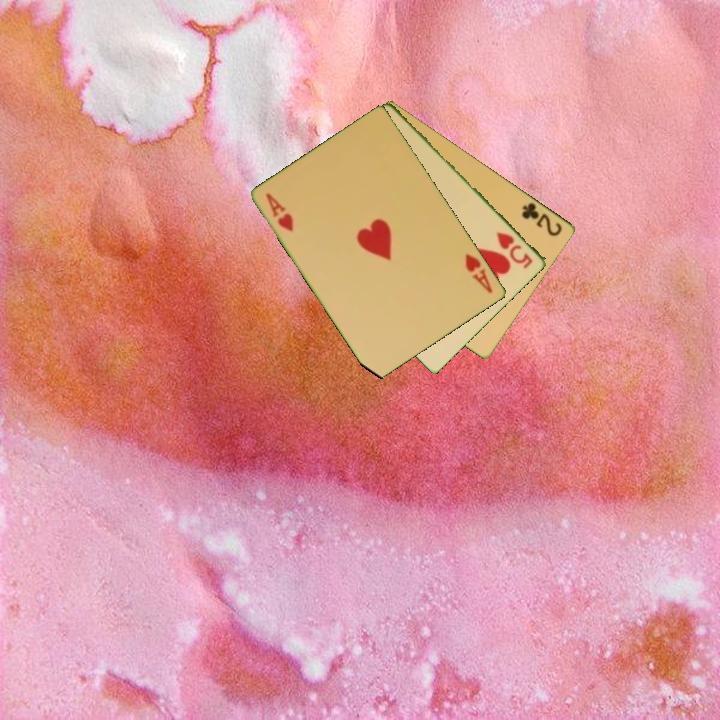2c: (518, 199, 566, 239)
5h: (493, 228, 536, 272)
Ah: (262, 189, 297, 234), (462, 250, 496, 296)
